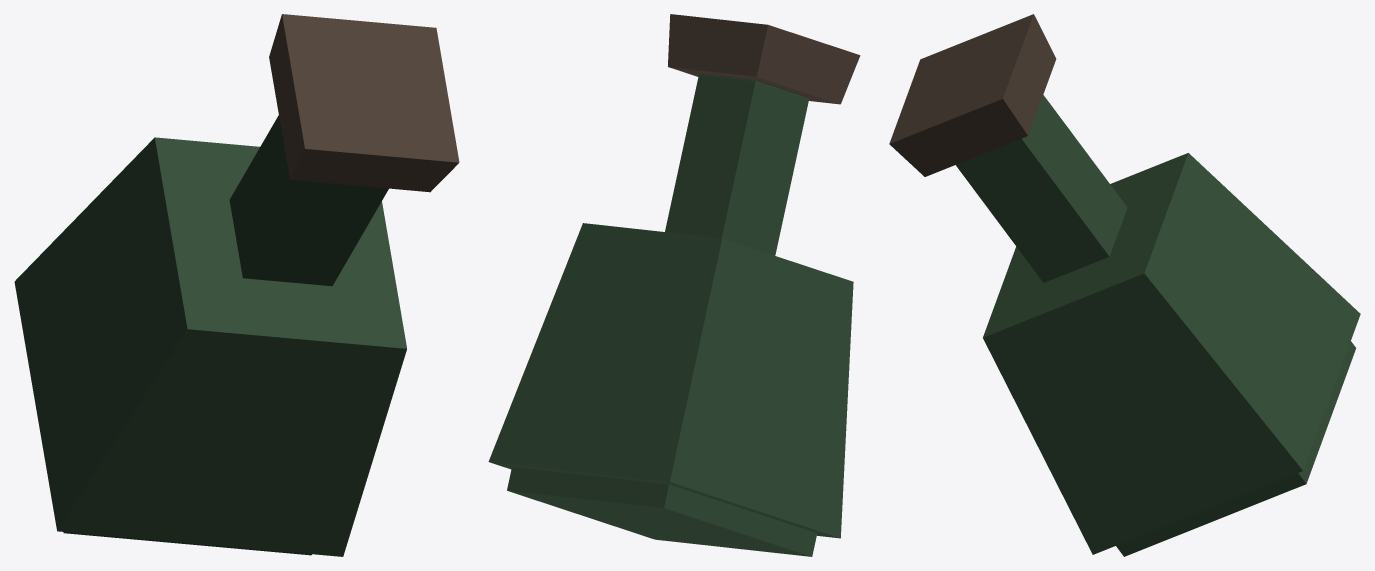
Rendered from scaled_potion_bottle.fbx.
3 views of the same model, side by side, from view 1: azimuth 30°, elevation 25°; view 2: azimuth 150°, elevation 25°; view 3: azimuth 270°, elevation 25° (orthographic). The views are drawn at different scales.
Parts seen in each view (by area): view 1: pasted__pCube18; view 2: pasted__pCube18; view 3: pasted__pCube18.
Part boxes in pixels (x1=…): pasted__pCube18: x1=14, y1=14, x2=459, y2=556; pasted__pCube18: x1=488, y1=14, x2=860, y2=556; pasted__pCube18: x1=889, y1=14, x2=1360, y2=556.
Size of the model in its own units: 6.65 by 11.45 by 9.61.
